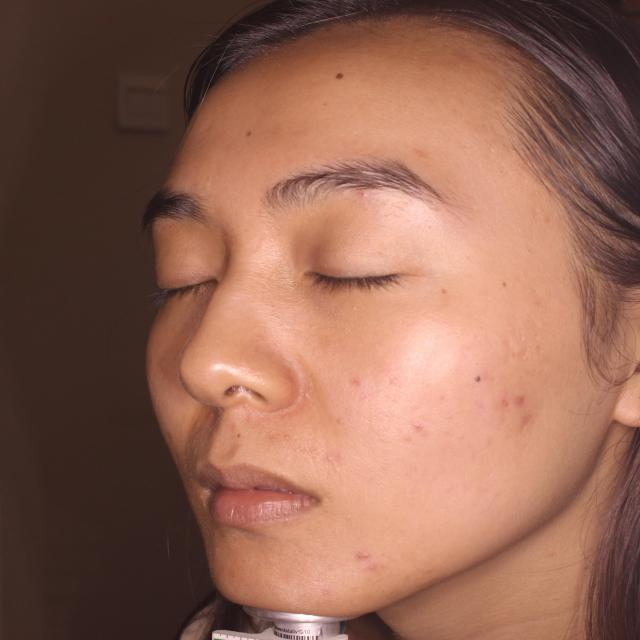comedone: (508, 392, 541, 433), (344, 542, 383, 576)
